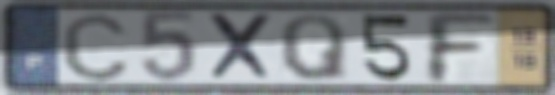5: (137, 8, 199, 87), (359, 12, 414, 83)
C: (58, 9, 133, 84)
F: (420, 10, 500, 86)
Q: (276, 12, 352, 83)
X: (203, 11, 280, 83)
